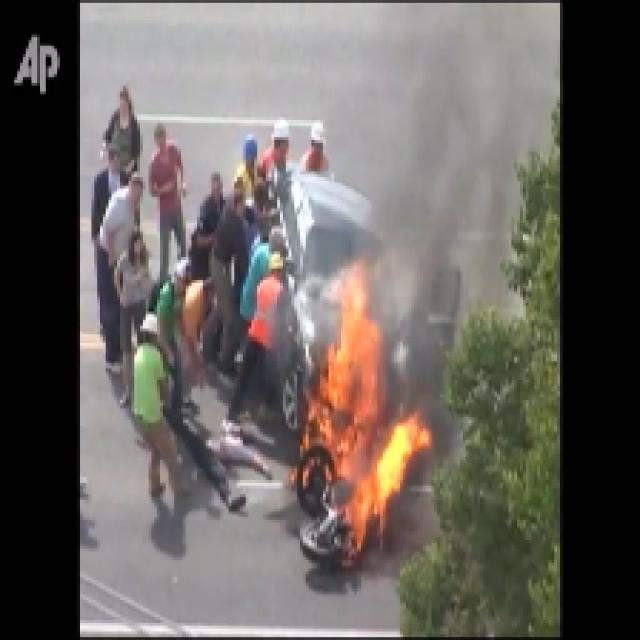fire: (317, 334, 392, 536)
smoke: (366, 157, 496, 285)
